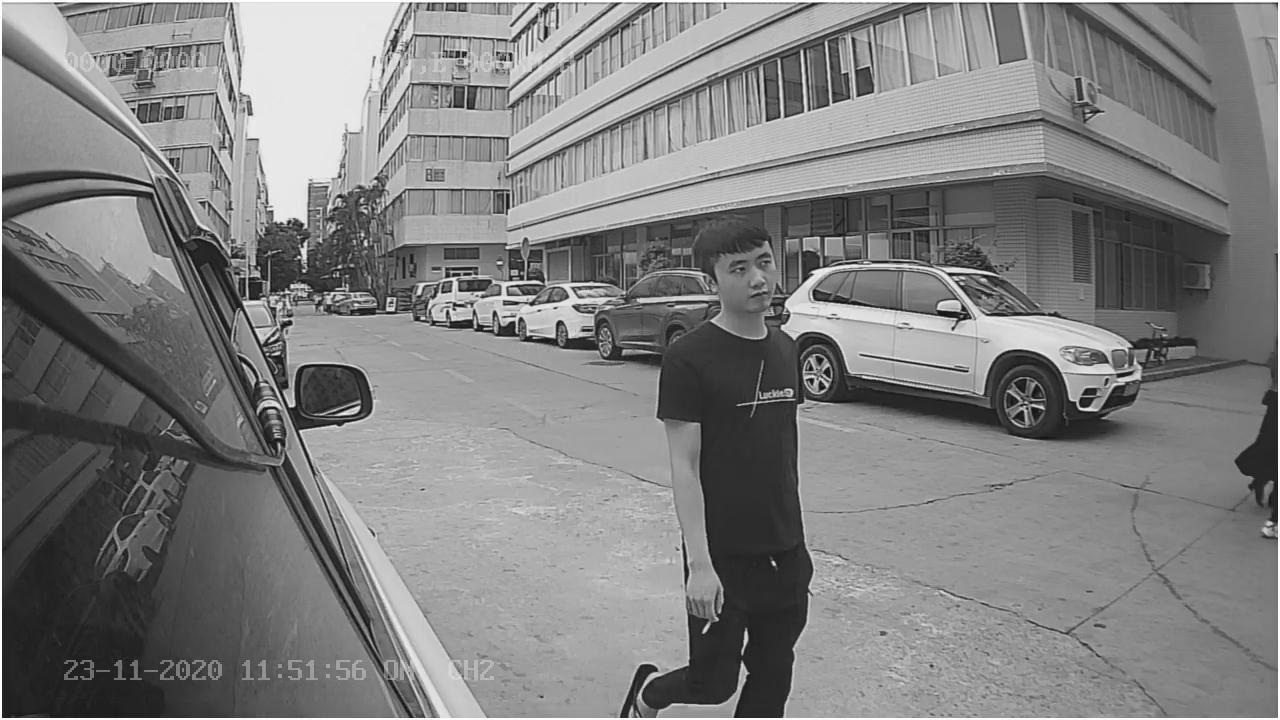person: (650, 207, 837, 526)
